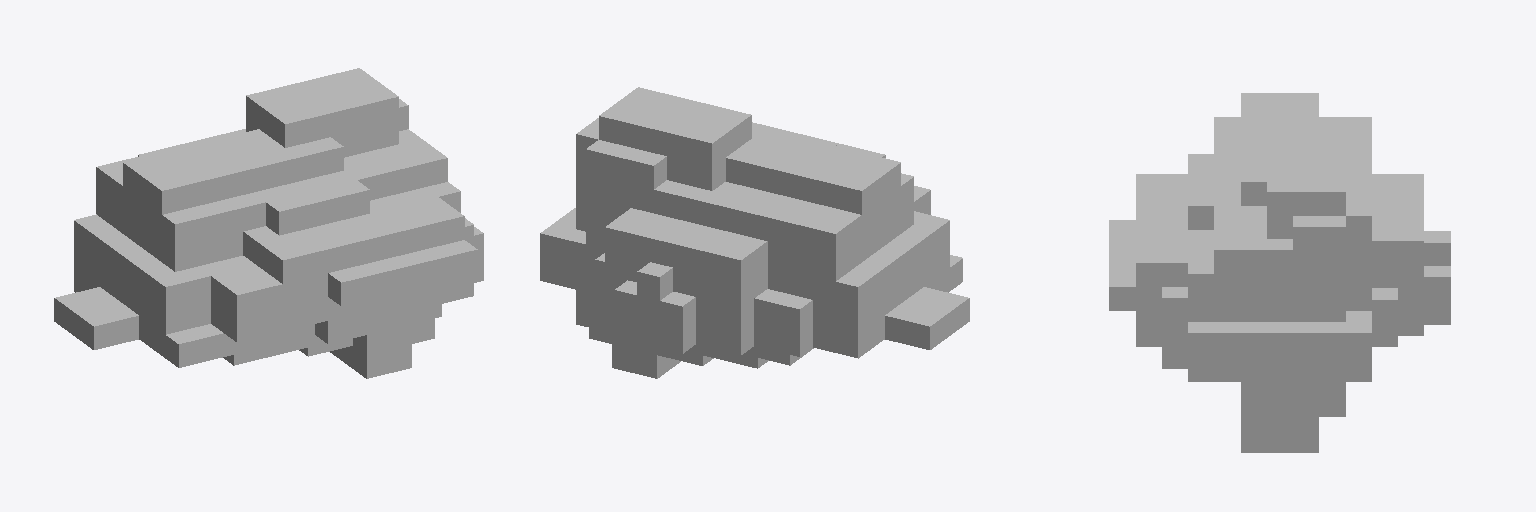
File: brain.obj
The picture shows the model from 3 angles: view 1: azimuth 30°, elevation 25°; view 2: azimuth 150°, elevation 25°; view 3: azimuth 270°, elevation 25°; orthographic projection.
Size of the model in its own units: 16 by 11 by 13.